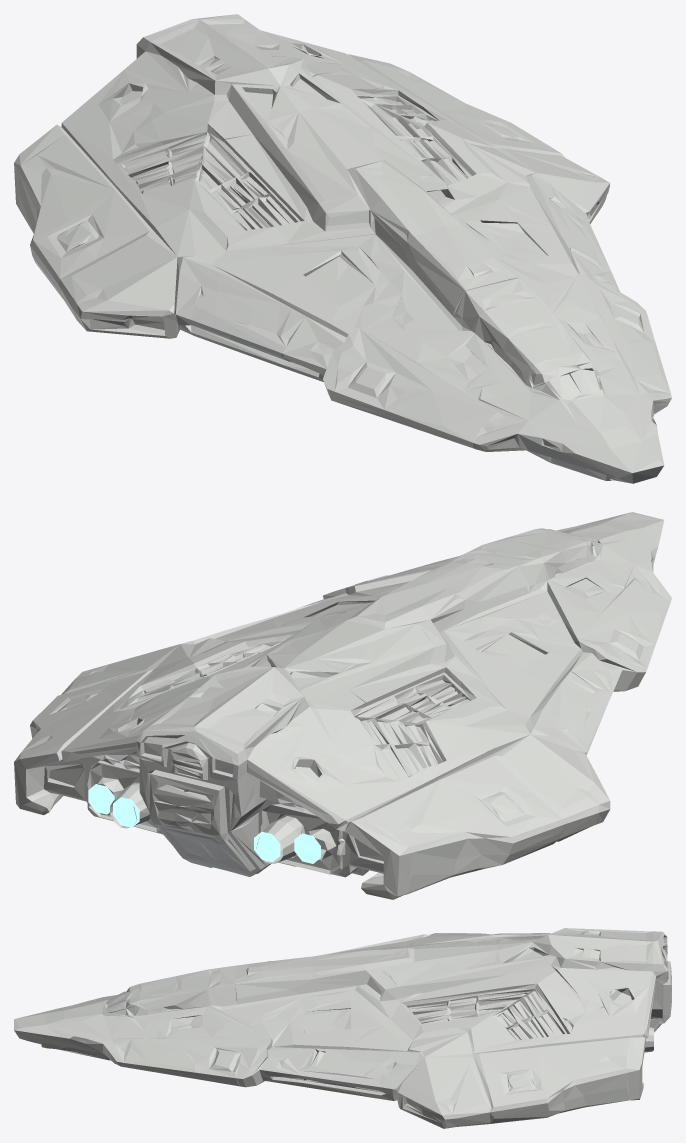
File: python.glb
3 renders of one model, top to bottom at view 1: azimuth 30°, elevation 25°; view 2: azimuth 150°, elevation 25°; view 3: azimuth 270°, elevation 25°, orthographic. The views are drawn at different scales.
Parts seen in each view (by area): view 1: python; view 2: python; view 3: python.
Part boxes in pixels (<box>): python: <box>14,14,671,483</box>; python: <box>14,512,671,899</box>; python: <box>14,928,671,1128</box>.
Size of the model in its own units: 57.97 by 18.02 by 87.84.
